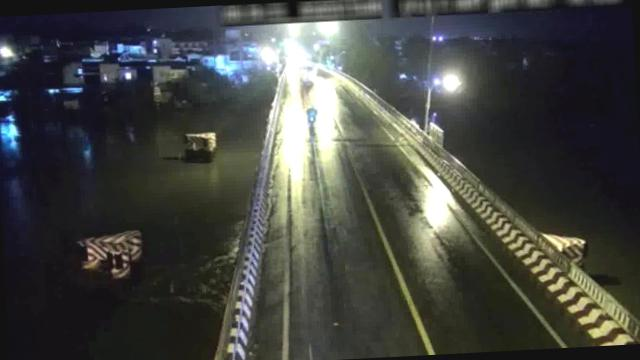Bike: (301, 103, 320, 126)
